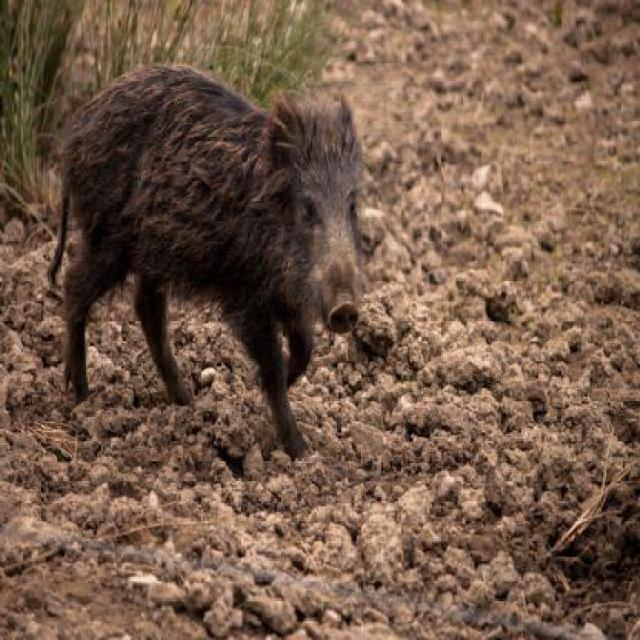Boar: (46, 58, 374, 464)
